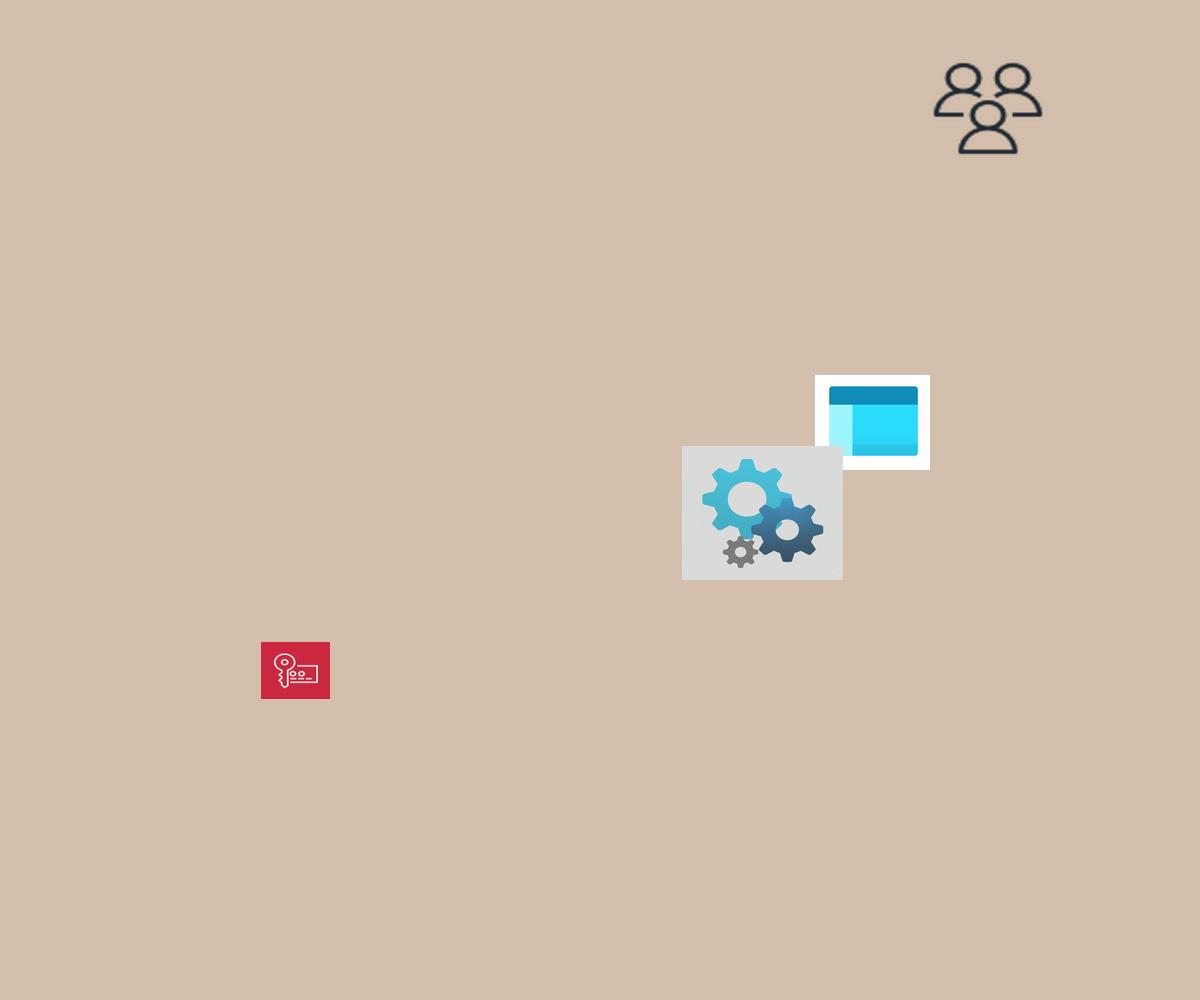AWS-Key-Management-Service: (261, 642, 330, 699)
AWS-Res_Users: (929, 59, 1047, 158)
Azure_api: (682, 446, 843, 580)
Azure_management-portal: (815, 375, 930, 470)
